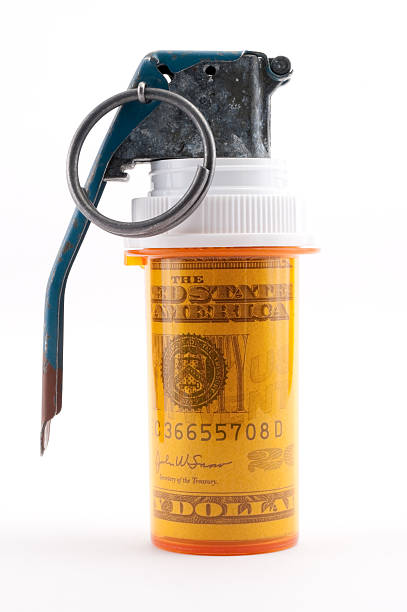e1: (36, 48, 302, 555)
